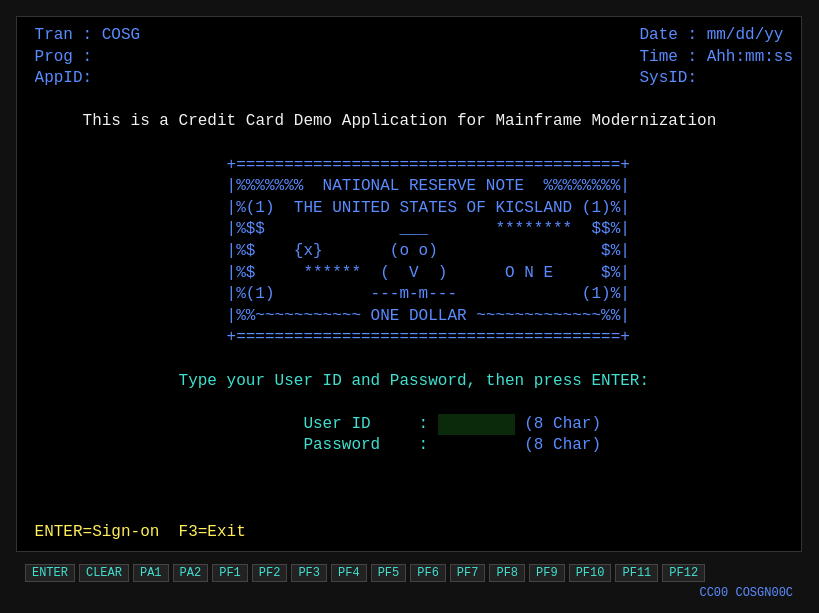
Scenario: buildFields › keeps typed values on a same-screen response that omits data
Type "USER0001" into the field named "USERID" at [476, 425], box [438, 414, 515, 435]
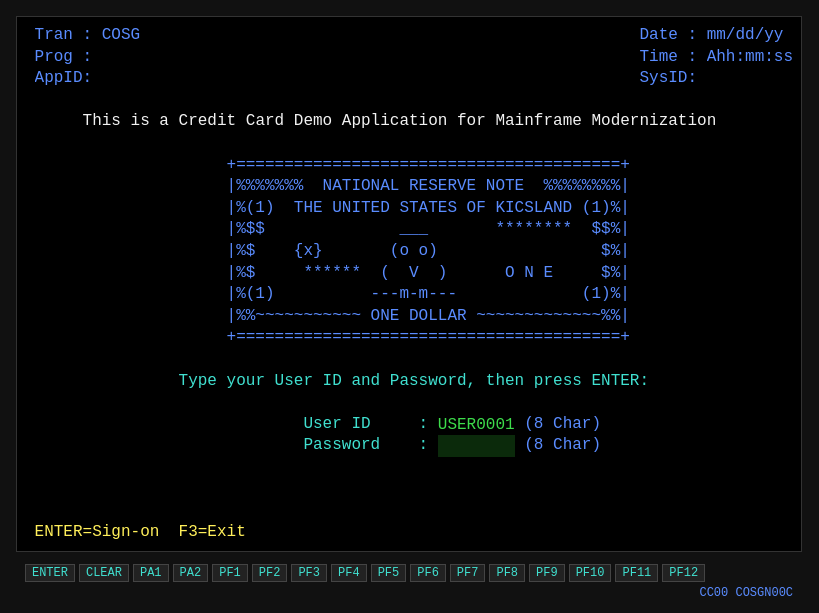
Click the button "ENTER" at [50, 573], box [25, 564, 75, 582]
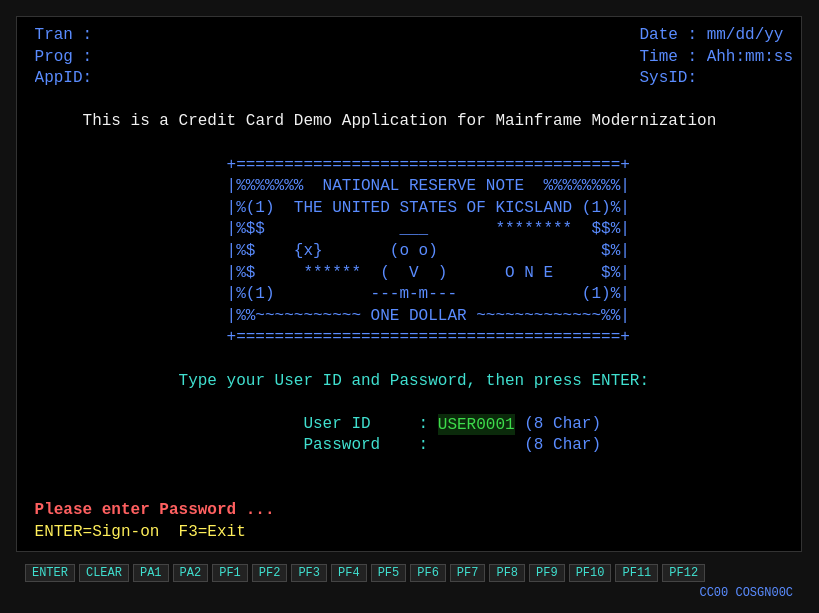
Expected: the text "Please enter Password ..." is shown, [34, 501, 274, 519]
